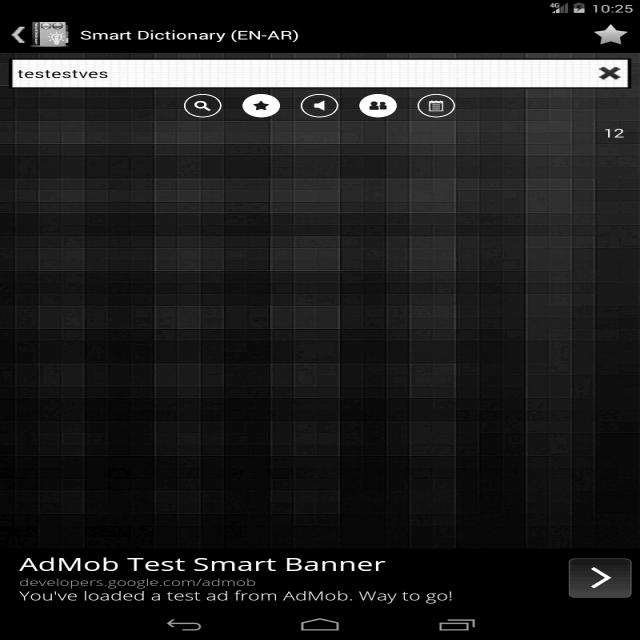ImageButton: (295, 93, 343, 119), (178, 92, 225, 118), (413, 91, 460, 117), (236, 93, 279, 119), (356, 94, 399, 120), (590, 21, 628, 47), (592, 62, 626, 82), (6, 21, 28, 48)
TextView: (20, 553, 462, 605), (75, 27, 304, 43), (18, 66, 111, 82)
